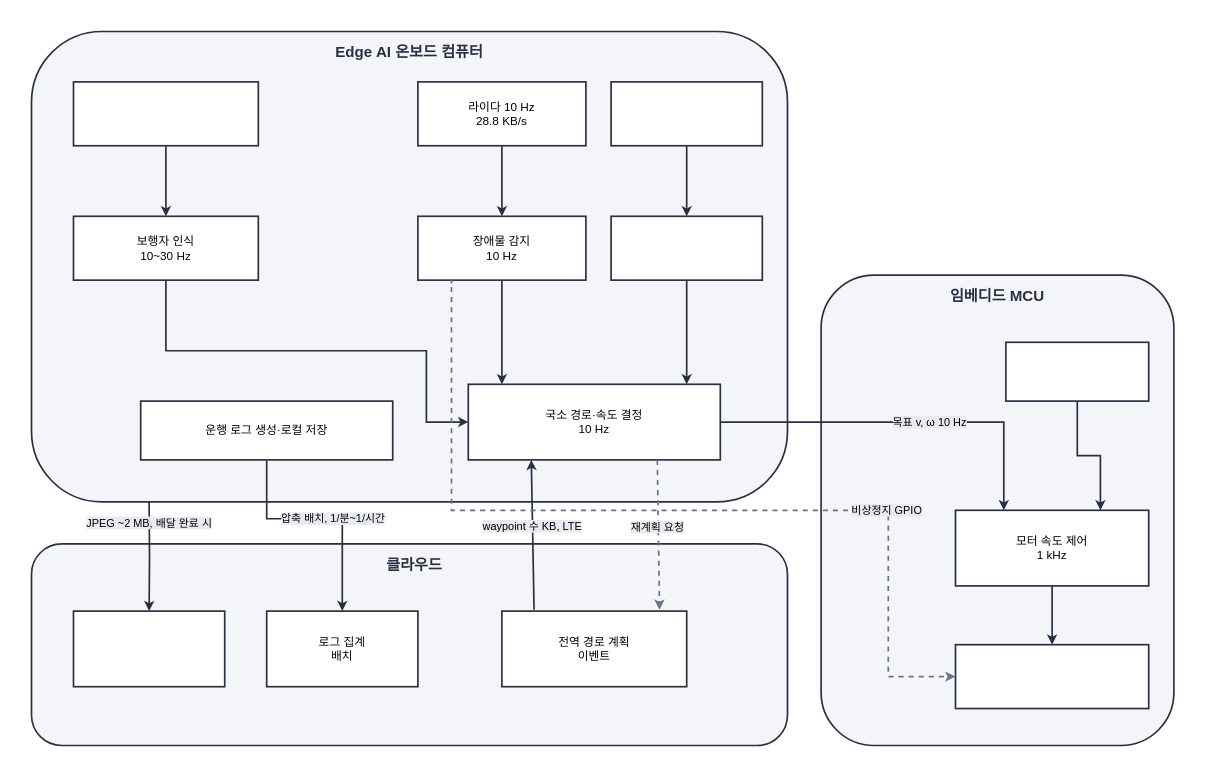
The diagram is 1205 pixels wide and 776 high, and some of its shapes have lost their labels. Here are the shapes that lost their labels. From the top down, the box of each, then its label:
(72, 81, 259, 146): 카메라 30 fps 186.6 MB/s
(610, 81, 763, 146): IMU 200 Hz
(610, 215, 763, 281): 자세·오도메트리 200 Hz
(1005, 341, 1149, 402): 엔코더 1 kHz
(72, 610, 225, 687): 사진 저장·알림 (비실시간)
(954, 643, 1149, 709): 모터 드라이버
